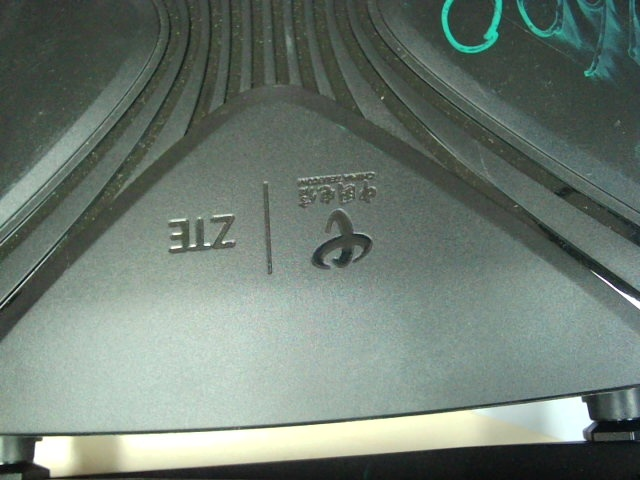AX_ZTEChinaTelecom: (158, 169, 387, 272)
